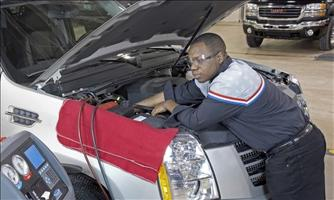person: (133, 33, 328, 200)
